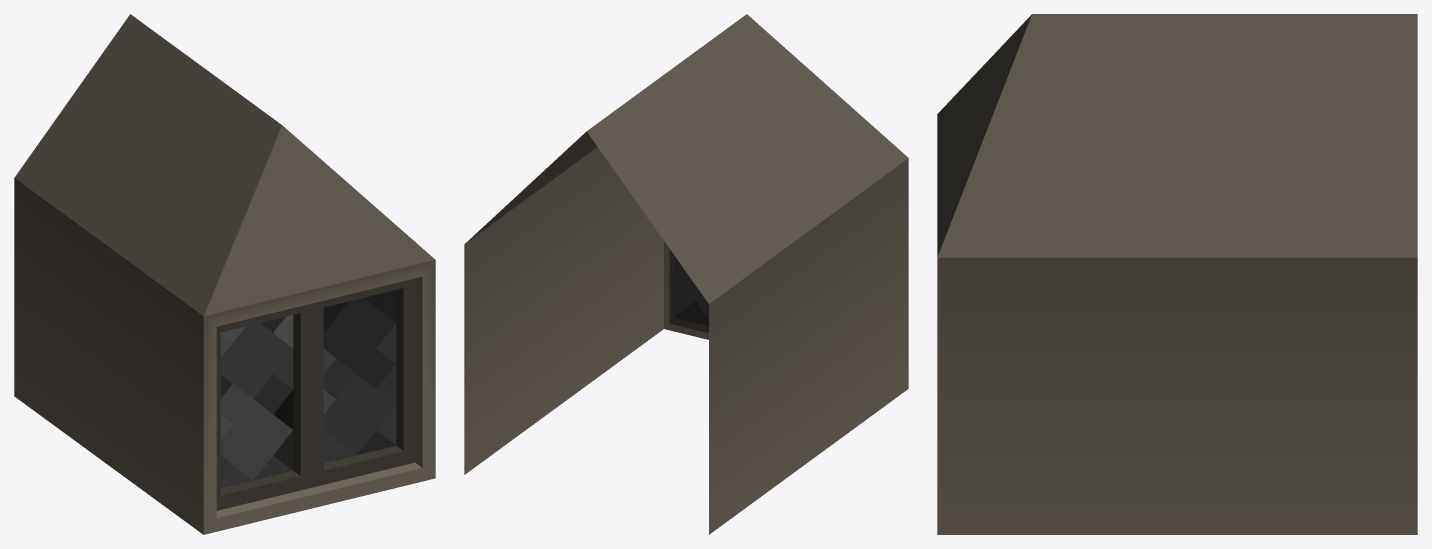
Rendered from Window-Roof_A.fbx.
The picture shows the model from 3 angles, left to right: view 1: azimuth 30°, elevation 25°; view 2: azimuth 150°, elevation 25°; view 3: azimuth 270°, elevation 25°; orthographic projection. The views are drawn at different scales.
Visible parts, largest first — view 1: Window-Roof_A; view 2: Window-Roof_A; view 3: Window-Roof_A.
Boxes of the visible parts, box(x1,y1,x2,y2) form: Window-Roof_A: box(14, 14, 435, 534); Window-Roof_A: box(464, 14, 908, 534); Window-Roof_A: box(937, 14, 1417, 534).
Bounding box in the file's own units: 179 × 261 × 253.
